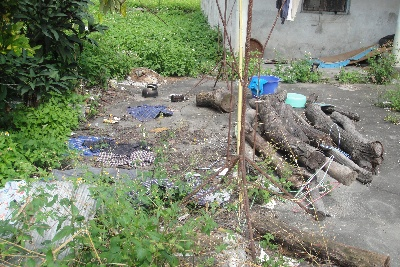bottle: (171, 94, 189, 103)
bowl: (285, 92, 307, 108), (141, 87, 159, 98)
bucket: (249, 75, 279, 98)
